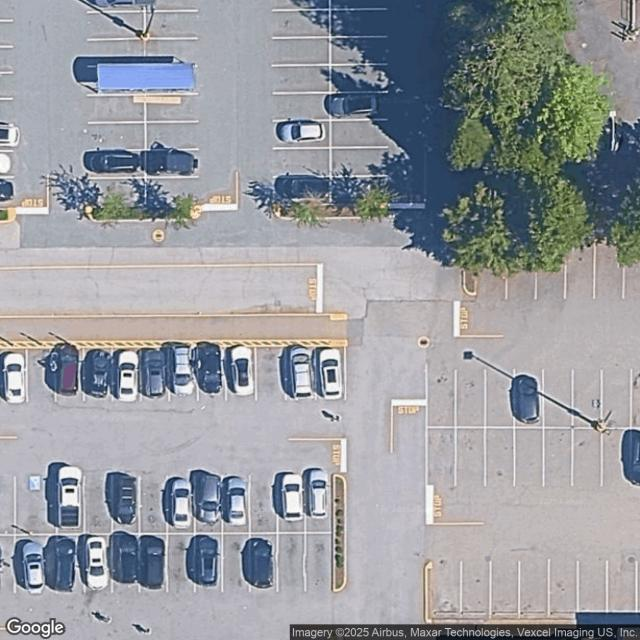car: (56, 465, 82, 527), (276, 173, 331, 200), (137, 535, 165, 588), (218, 476, 247, 525), (84, 534, 110, 588), (197, 342, 223, 396), (111, 472, 138, 524), (114, 531, 140, 585), (112, 350, 140, 400), (52, 535, 77, 591), (513, 374, 541, 424), (168, 342, 194, 395), (54, 344, 80, 396), (287, 344, 312, 398), (22, 538, 46, 594), (88, 149, 140, 174), (144, 347, 168, 400), (145, 150, 198, 174), (195, 535, 219, 587), (328, 93, 379, 117), (87, 349, 112, 396), (232, 345, 255, 396), (250, 538, 274, 586), (280, 471, 303, 521), (3, 353, 25, 405), (277, 121, 324, 145), (307, 468, 329, 518), (198, 472, 220, 522), (321, 348, 342, 398), (171, 477, 192, 527), (624, 429, 640, 485), (1, 121, 20, 147)
